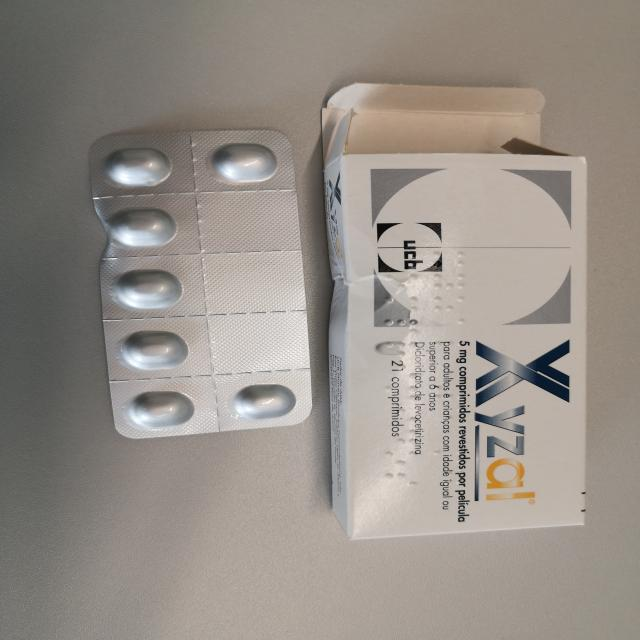Pill: (104, 206, 181, 250), (209, 140, 279, 186), (117, 329, 191, 371), (112, 267, 184, 309), (102, 146, 173, 188), (127, 390, 201, 429), (229, 383, 300, 420)
